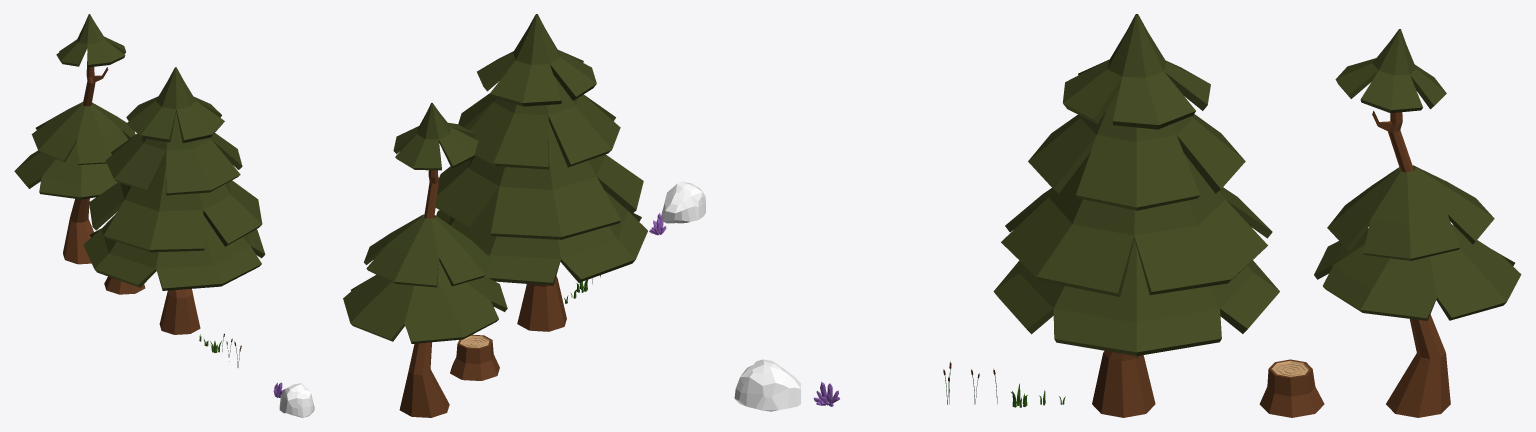
The model's file is Assets_Parciales.fbx.
3 renders of one model, left to right at view 1: azimuth 30°, elevation 25°; view 2: azimuth 150°, elevation 25°; view 3: azimuth 270°, elevation 25°, orthographic. The views are drawn at different scales.
Visible parts, largest first — view 1: Arbol_1, Arbol_2, Piedra, Arbol_Tronco; view 2: Arbol_1, Arbol_2, Arbol_Tronco, Piedra; view 3: Arbol_1, Arbol_2, Arbol_Tronco, Piedra.
Part boxes in pixels (x1=…): Arbol_1: x1=83, y1=67, x2=265, y2=334; Arbol_2: x1=14, y1=14, x2=135, y2=264; Piedra: x1=279, y1=383, x2=314, y2=417; Arbol_Tronco: x1=104, y1=276, x2=145, y2=294; Arbol_1: x1=435, y1=14, x2=647, y2=331; Arbol_2: x1=343, y1=103, x2=507, y2=417; Arbol_Tronco: x1=450, y1=334, x2=499, y2=380; Piedra: x1=661, y1=181, x2=705, y2=223; Arbol_1: x1=993, y1=14, x2=1279, y2=417; Arbol_2: x1=1314, y1=29, x2=1521, y2=417; Arbol_Tronco: x1=1259, y1=359, x2=1324, y2=417; Piedra: x1=734, y1=359, x2=800, y2=411.
Size of the model in its own units: 581 by 871 by 1595.
